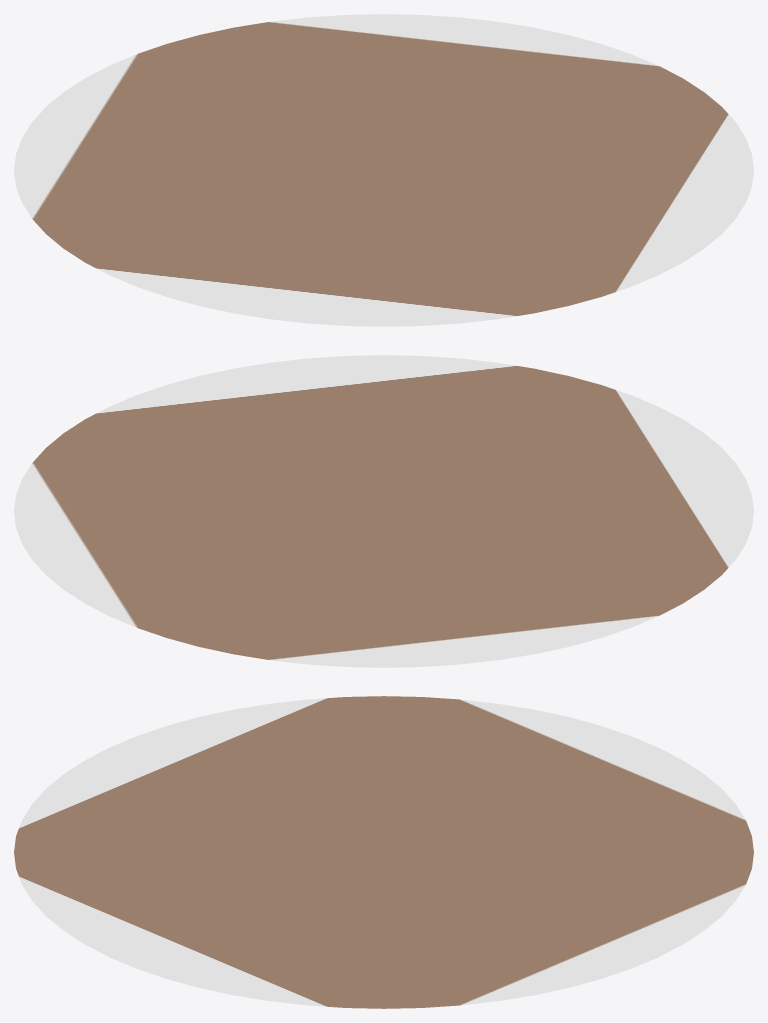
Rendered from platform - Copy.glb.
3 renders of one model, top to bottom at view 1: azimuth 30°, elevation 25°; view 2: azimuth 150°, elevation 25°; view 3: azimuth 270°, elevation 25°, orthographic.
Parts seen in each view (by area): view 1: Cylinder.033; view 2: Cylinder.033; view 3: Cylinder.033.
Boxes of the visible parts, bbox=[...] form: Cylinder.033: bbox=[14, 14, 753, 326]; Cylinder.033: bbox=[14, 355, 753, 667]; Cylinder.033: bbox=[14, 696, 753, 1008].
Bounding box in the file's own units: 5.66 × 0 × 5.66.
Materials: 1 (1 with a texture image).
